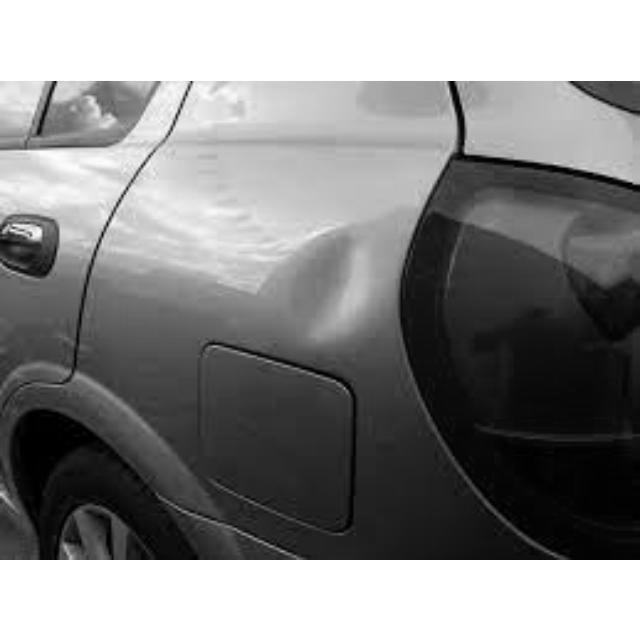quaterpanel-dent: (92, 147, 395, 539)
